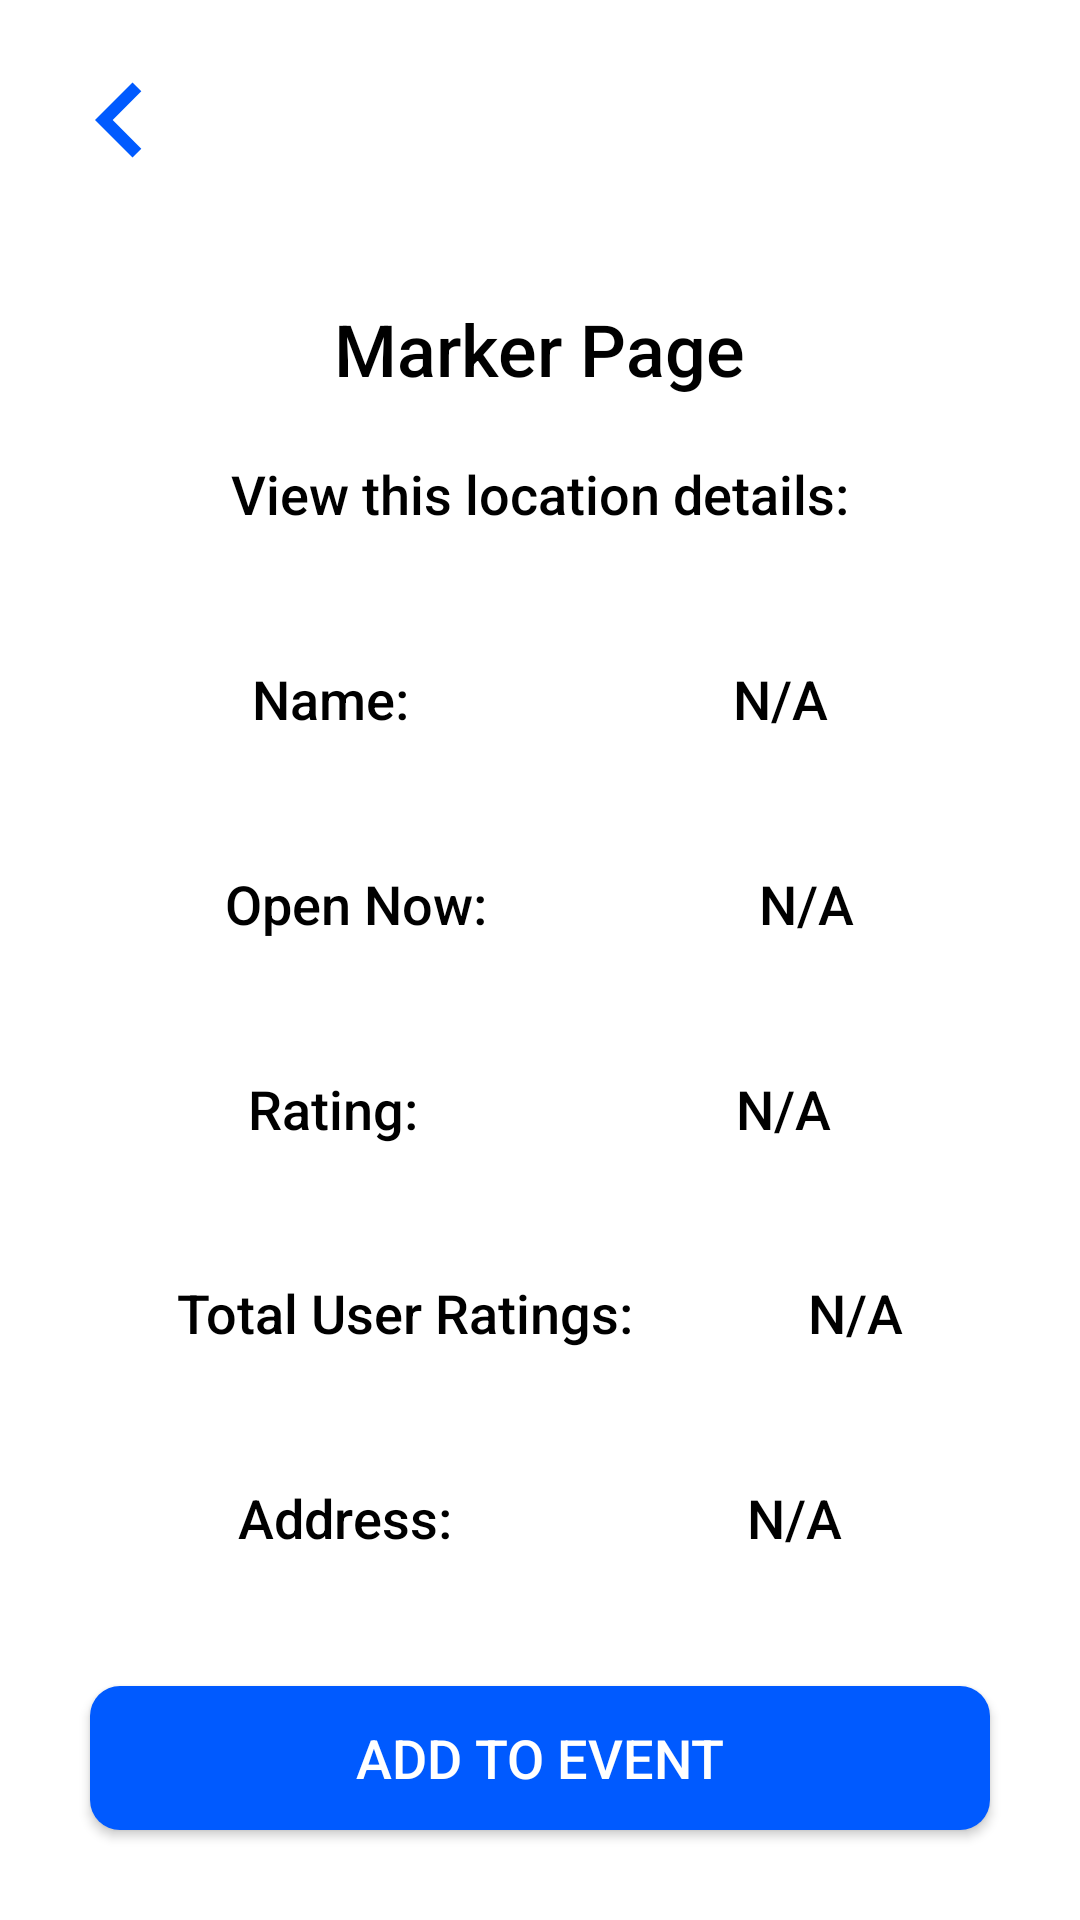

Icon click points for this 1080 x 1920 phone screenshot, format (x=x, y=y):
chevron left custom: (x=118, y=120)
